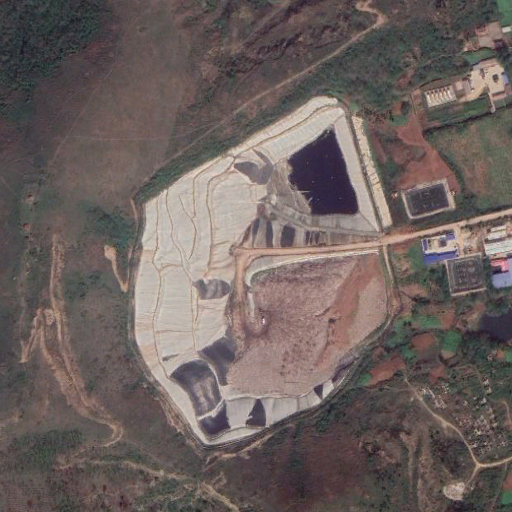lf: (131, 98, 400, 468)
